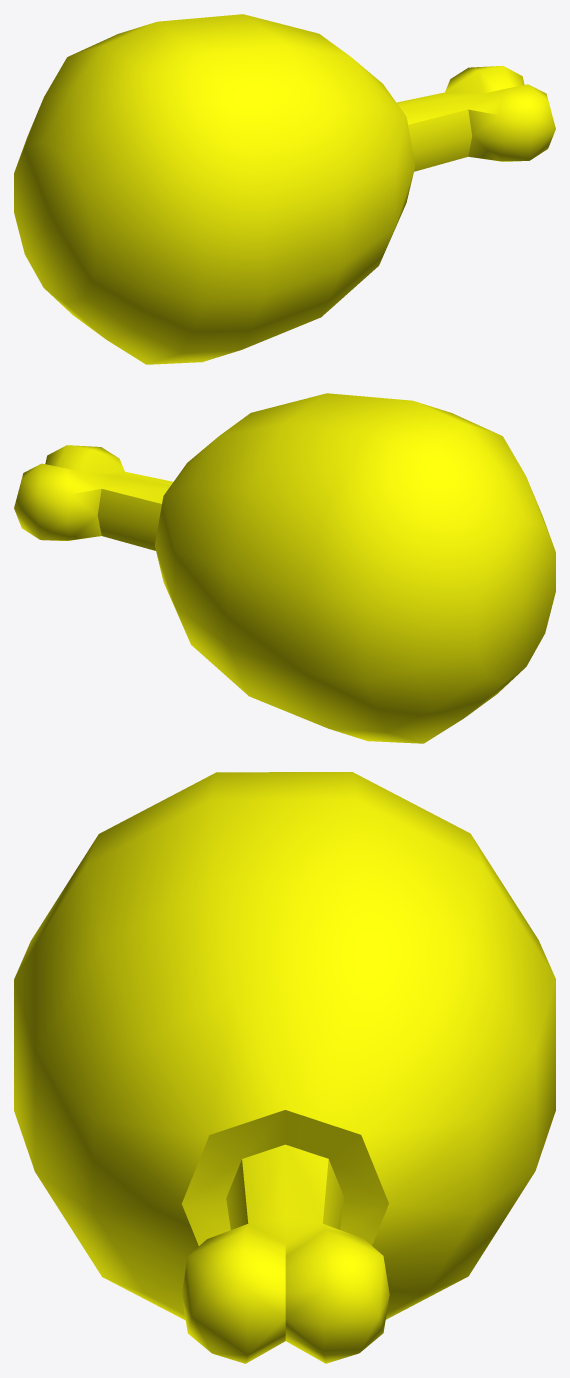
The model's file is food_ingredient_ham.gltf.
The picture shows the model from 3 angles, top to bottom: view 1: azimuth 30°, elevation 25°; view 2: azimuth 150°, elevation 25°; view 3: azimuth 270°, elevation 25°; orthographic projection. The views are drawn at different scales.
Visible parts, largest first — view 1: food_ingredient_ham; view 2: food_ingredient_ham; view 3: food_ingredient_ham.
Boxes of the visible parts, left/top/right/bottom form: food_ingredient_ham: left=14, top=14, right=555, bottom=364; food_ingredient_ham: left=14, top=393, right=555, bottom=743; food_ingredient_ham: left=14, top=772, right=555, bottom=1363.
Bounding box in the file's own units: 1.39 × 0.83 × 0.83.
1 material, 1 textured.
